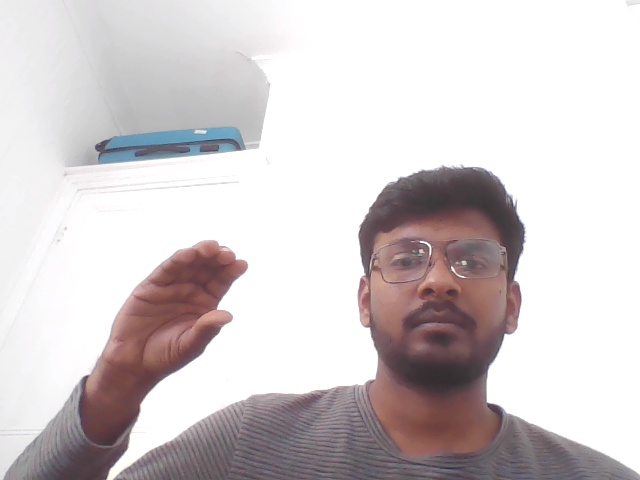No: (65, 205, 261, 447)
